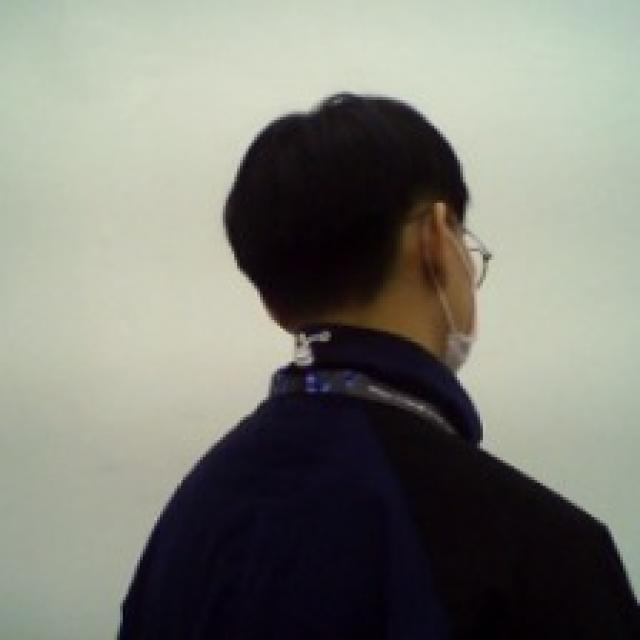no_gloves: (218, 85, 472, 332)
